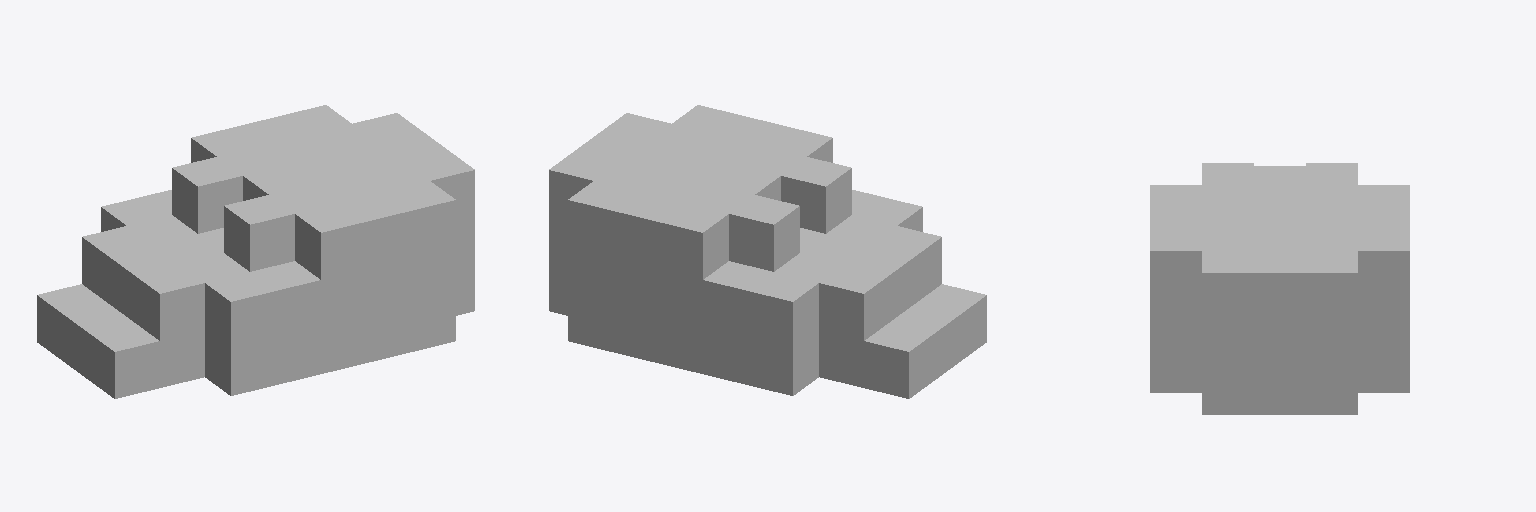
The model's file is Mdl_TheFaceless_3.obj.
3 renders of one model, left to right at view 1: azimuth 30°, elevation 25°; view 2: azimuth 150°, elevation 25°; view 3: azimuth 270°, elevation 25°, orthographic.
Visible parts, largest first — view 1: Mdl_TheFaceless_3; view 2: Mdl_TheFaceless_3; view 3: Mdl_TheFaceless_3.
Boxes of the visible parts, x1,y1,x2,y2 form: Mdl_TheFaceless_3: [37, 105, 474, 398]; Mdl_TheFaceless_3: [549, 105, 986, 398]; Mdl_TheFaceless_3: [1150, 163, 1409, 414].
Size of the model in its own units: 8 by 3 by 5.